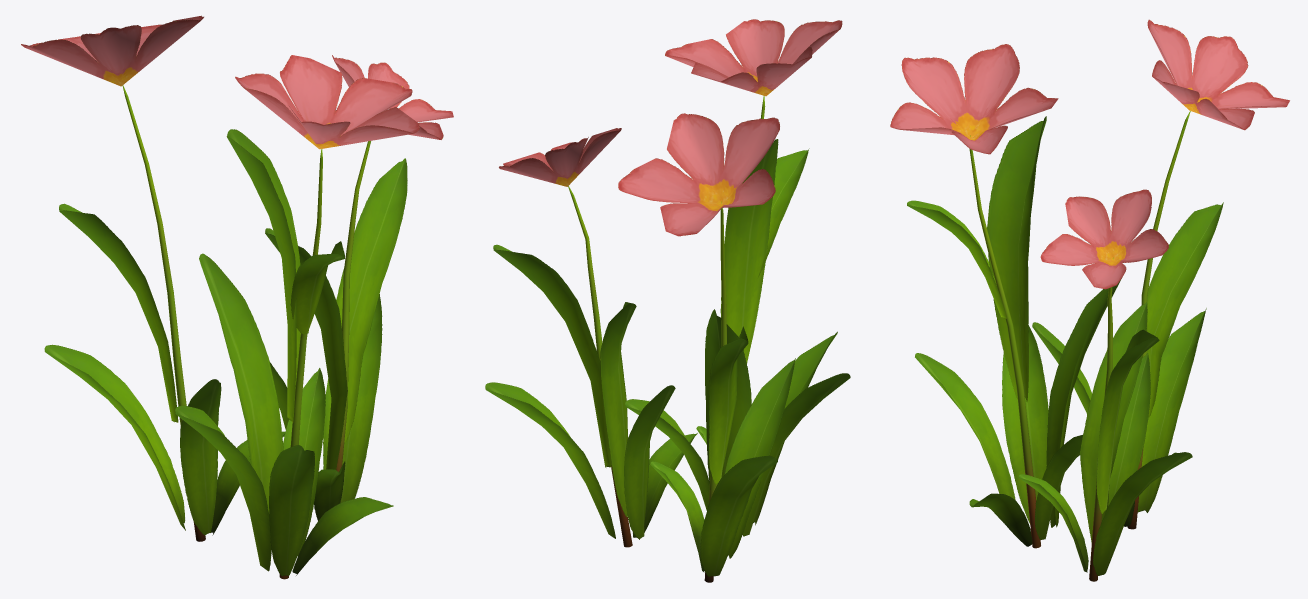
Rendered from Flower_3_Group.glb.
3 views of the same model, side by side, from view 1: azimuth 30°, elevation 25°; view 2: azimuth 150°, elevation 25°; view 3: azimuth 270°, elevation 25° (orthographic). The views are drawn at different scales.
Visible parts, largest first — view 1: Flower_3_Group; view 2: Flower_3_Group; view 3: Flower_3_Group.
Part boxes in pixels (x1=…): Flower_3_Group: x1=21, y1=15, x2=453, y2=579; Flower_3_Group: x1=485, y1=19, x2=850, y2=582; Flower_3_Group: x1=890, y1=19, x2=1289, y2=581.
Bounding box in the file's own units: 1.49 × 2.05 × 1.59.
2 materials, 2 textured.
